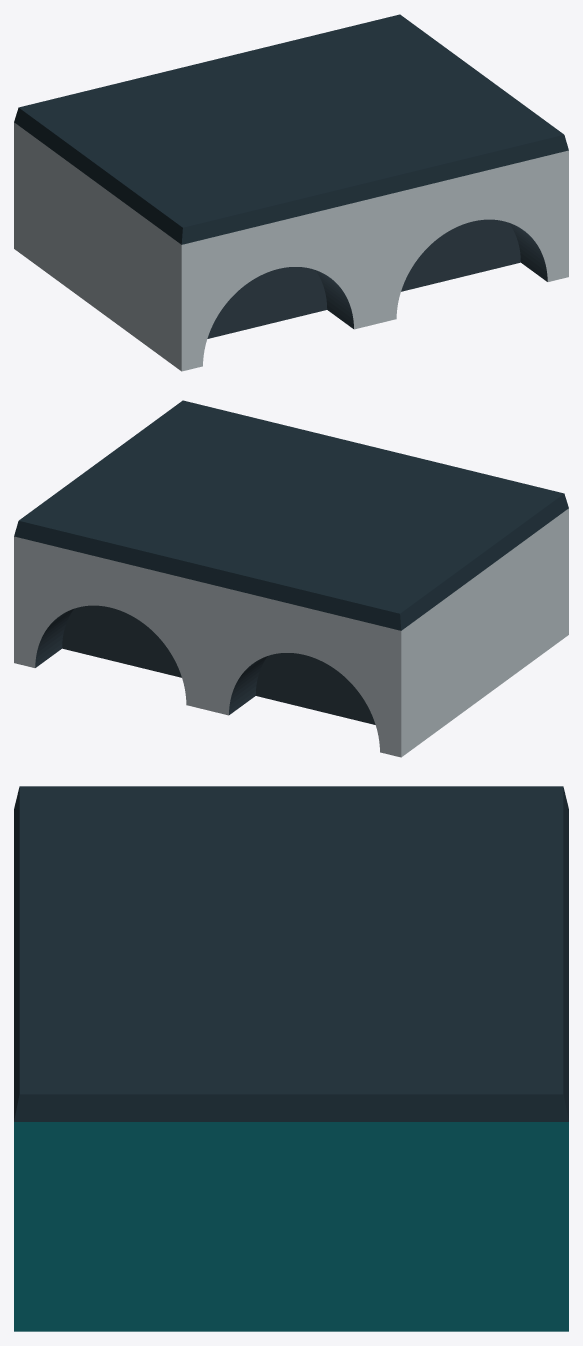
The model's file is car.dae.
3 views of the same model, one above another, from view 1: azimuth 30°, elevation 25°; view 2: azimuth 150°, elevation 25°; view 3: azimuth 270°, elevation 25° (orthographic). The views are drawn at different scales.
Visible parts, largest first — view 1: beveled_flat_top_lid, chassis_with_four_wheel_recesses; view 2: beveled_flat_top_lid, chassis_with_four_wheel_recesses; view 3: beveled_flat_top_lid, chassis_with_four_wheel_recesses.
Part boxes in pixels (box(x1,y1,x2,y2)): beveled_flat_top_lid: box(14, 14, 568, 244); chassis_with_four_wheel_recesses: box(14, 122, 568, 371); beveled_flat_top_lid: box(14, 400, 568, 630); chassis_with_four_wheel_recesses: box(14, 508, 568, 757); beveled_flat_top_lid: box(14, 786, 568, 1121); chassis_with_four_wheel_recesses: box(14, 1122, 568, 1331).
Bounding box in the file's own units: 0.4 × 0.3 × 0.14.
